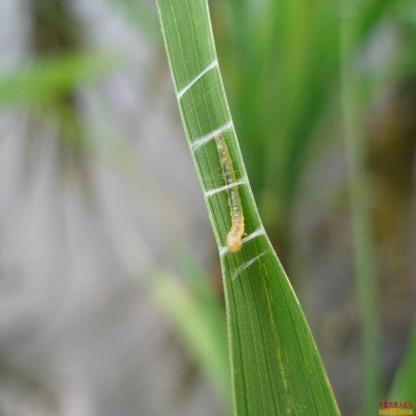leaf-folder: (208, 127, 252, 260)
